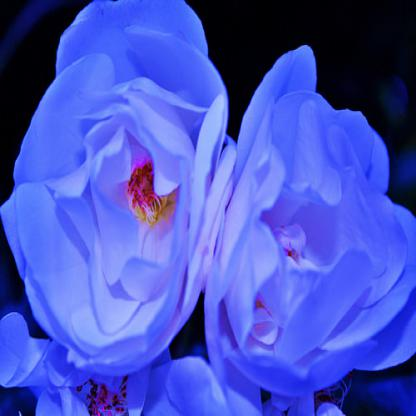Rose-Mawar: (2, 1, 416, 410)
